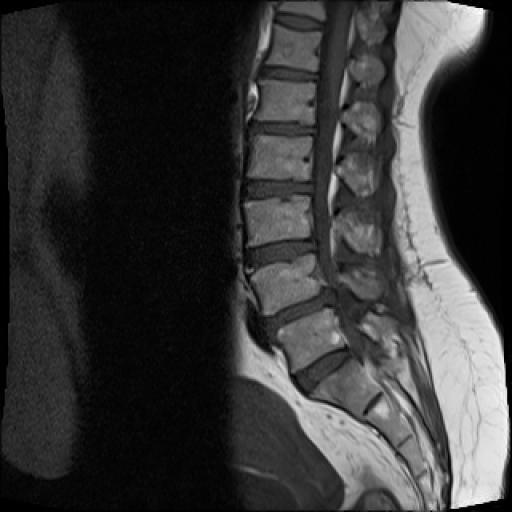L1: (255, 82, 314, 124)
L2: (248, 136, 310, 180)
L3: (246, 198, 311, 246)
L4: (251, 254, 326, 316)
L5: (277, 308, 347, 374)
S1: (310, 358, 382, 420)
